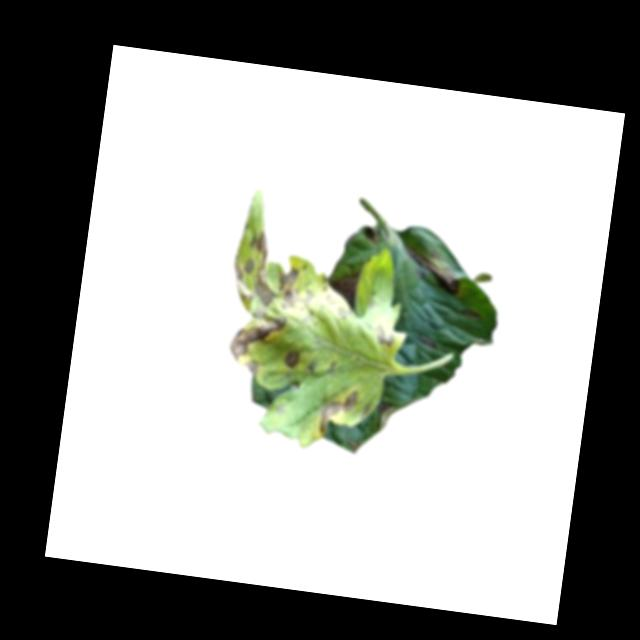Early_blight: (220, 227, 309, 380), (403, 239, 465, 300), (317, 385, 362, 438), (327, 269, 364, 315), (372, 319, 400, 348), (283, 348, 301, 370)
